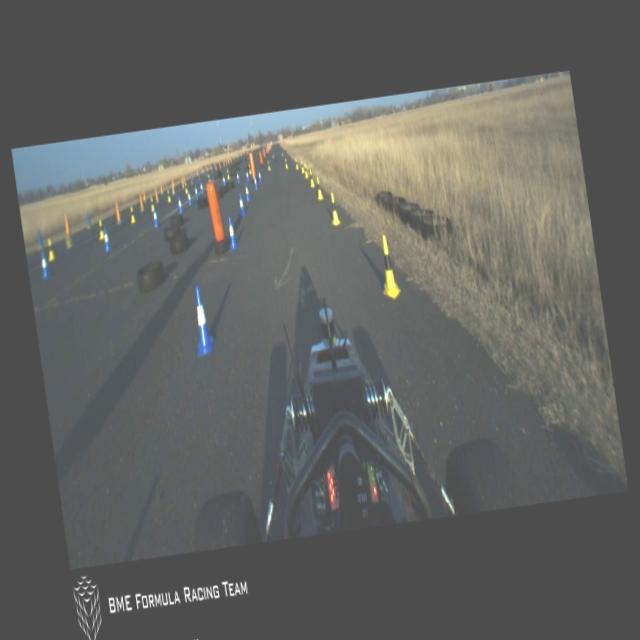blue_cone: (188, 284, 216, 361), (226, 215, 238, 251), (39, 250, 50, 282), (102, 228, 112, 252), (238, 193, 246, 218), (151, 206, 160, 228), (243, 181, 251, 203), (176, 194, 184, 215), (252, 174, 259, 192), (186, 190, 192, 207), (193, 185, 199, 202), (257, 168, 263, 184), (244, 168, 250, 182), (236, 170, 241, 184), (199, 181, 204, 195), (222, 172, 226, 188)
yellow_cone: (375, 232, 402, 302), (328, 192, 341, 228), (314, 175, 324, 202), (46, 237, 55, 262), (96, 220, 105, 242), (308, 168, 315, 188), (129, 204, 136, 223), (206, 173, 212, 190), (303, 162, 309, 178), (300, 159, 306, 175), (149, 196, 155, 212), (266, 160, 272, 173), (166, 189, 171, 203), (226, 168, 231, 181), (284, 156, 288, 170), (294, 157, 298, 170), (184, 182, 188, 195), (248, 166, 252, 174)
